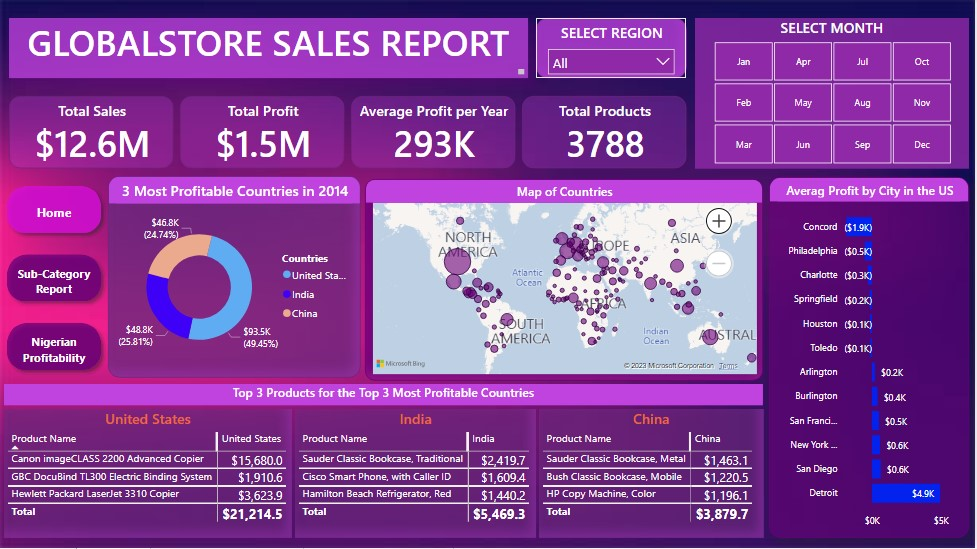

The dashboard page shown, as its layout file describes it:
{"tool":"powerbi","page":{"name":"Home","canvas":[1280,720],"ordinal":0},"visuals":[{"type":"donutChart","title":"3 Most Profitable Countries in 2014","fields":{"Category":["Orders.Country"],"Y":["Sum(Orders.Profit)"]},"box":[142.4,231.2,331.7,264.7],"z":0},{"type":"pivotTable","title":"China","fields":{"Columns":["Orders.Country"],"Values":["Sum(Orders.Profit)"],"Rows":["Orders.Product Name"]},"box":[708.7,537.8,294.9,169.2],"z":1000},{"type":"pivotTable","title":"United States","fields":{"Columns":["Orders.Country"],"Values":["Sum(Orders.Profit)"],"Rows":["Orders.Product Name"]},"box":[5,537.8,378,169.2],"z":2000},{"type":"pivotTable","title":"India","fields":{"Columns":["Orders.Country"],"Values":["Sum(Orders.Profit)"],"Rows":["Orders.Product Name"]},"box":[387,537.8,316.6,169.2],"z":3000},{"type":"barChart","title":"Averag Profit by City in the US","fields":{"Category":["Orders.City"],"Y":["Avg(Orders.Profit)"]},"box":[1010.3,232.9,263,474.1],"z":4000},{"type":"card","title":"Total Profit","fields":{"Values":["Sum(Orders.Profit)"]},"box":[236.2,125.7,216.1,95.5],"z":5000},{"type":"card","title":"Average Profit per Year","fields":{"Values":["Orders.Average profit per year"]},"box":[460.7,125.7,216.1,95.5],"z":6000},{"type":"card","title":"Total Products","fields":{"Values":["Orders.Total Products"]},"box":[685.2,125.7,216.1,95.5],"z":7000},{"type":"textbox","title":"Top 3 Products for the Top 3  Most Profitable Countries","box":[5,504.3,996.9,28.5],"z":8000},{"type":"card","title":"Total Sales","fields":{"Values":["Sum(Orders.Sales)"]},"box":[11.7,125.7,216.1,95.5],"z":9000},{"type":"textbox","title":"GLOBALSTORE SALES REPORT","box":[11.7,23.5,681.9,78.7],"z":10000},{"type":"slicer","title":"SELECT REGION","fields":{"Values":["Orders.Region"]},"box":[703.7,23.5,197.7,78.7],"z":11000},{"type":"slicer","title":"SELECT MONTH","fields":{"Values":["Calender.Month"]},"box":[913.1,23.5,360.2,197.7],"z":12000},{"type":"map","title":"Map of Countries","fields":{"Category":["Orders.Country"],"Size":["CountNonNull(Orders.Country)"]},"box":[479.2,234.6,522.7,264.7],"z":13000},{"type":"pageNavigator","box":[0,234.6,142.4,261.4],"z":14000}]}

Visuals, with their boxes in screenshot pixels (x1, y1, x2, y2), scaled from the page's 1280x720 canvas onto the 977x549 screenshot:
"3 Most Profitable Countries in 2014" donutChart: (x1=109, y1=176, x2=362, y2=378)
"China" pivotTable: (x1=541, y1=410, x2=766, y2=539)
"United States" pivotTable: (x1=4, y1=410, x2=292, y2=539)
"India" pivotTable: (x1=295, y1=410, x2=537, y2=539)
"Averag Profit by City in the US" barChart: (x1=771, y1=178, x2=972, y2=539)
"Total Profit" card: (x1=180, y1=96, x2=345, y2=169)
"Average Profit per Year" card: (x1=352, y1=96, x2=517, y2=169)
"Total Products" card: (x1=523, y1=96, x2=688, y2=169)
"Top 3 Products for the Top 3  Most Profitable Countries" textbox: (x1=4, y1=385, x2=765, y2=406)
"Total Sales" card: (x1=9, y1=96, x2=174, y2=169)
"GLOBALSTORE SALES REPORT" textbox: (x1=9, y1=18, x2=529, y2=78)
"SELECT REGION" slicer: (x1=537, y1=18, x2=688, y2=78)
"SELECT MONTH" slicer: (x1=697, y1=18, x2=972, y2=169)
"Map of Countries" map: (x1=366, y1=179, x2=765, y2=381)
pageNavigator: (x1=0, y1=179, x2=109, y2=378)
